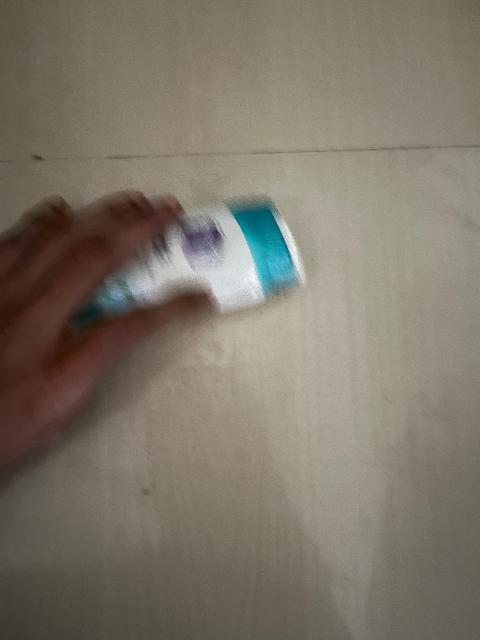boroplus: (125, 187, 302, 307)
hand: (0, 148, 223, 373)
